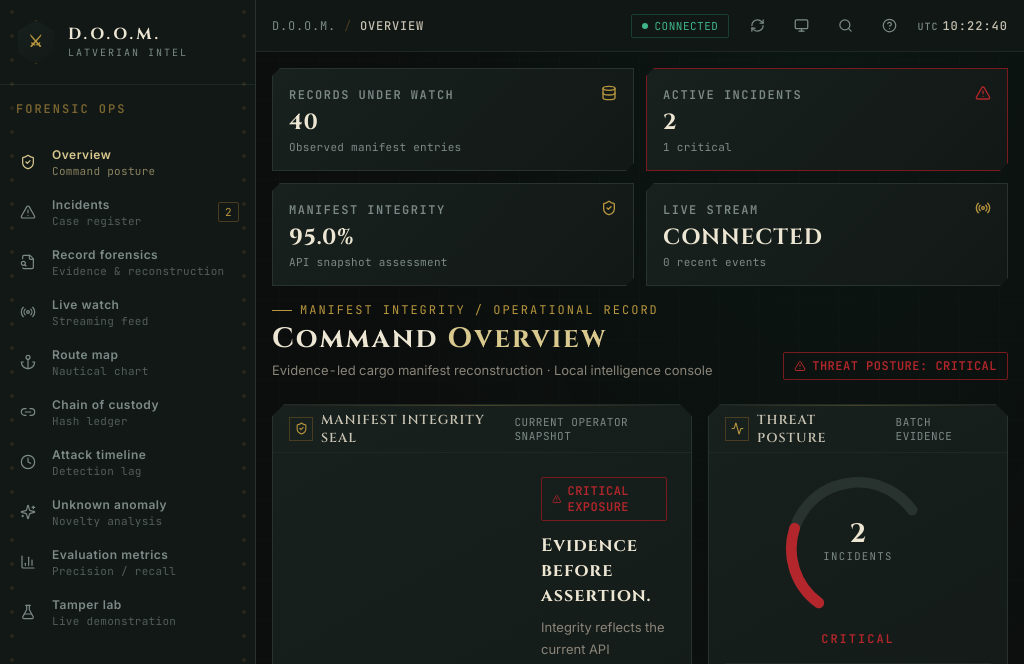
D.O.O.M. operations console › filters and sorts incidents by API-provided fields
The image size is (1024, 664).
Click the button "Incidents Case register 2": {"x": 128, "y": 212} top-left (8, 188), bottom-right (247, 236)
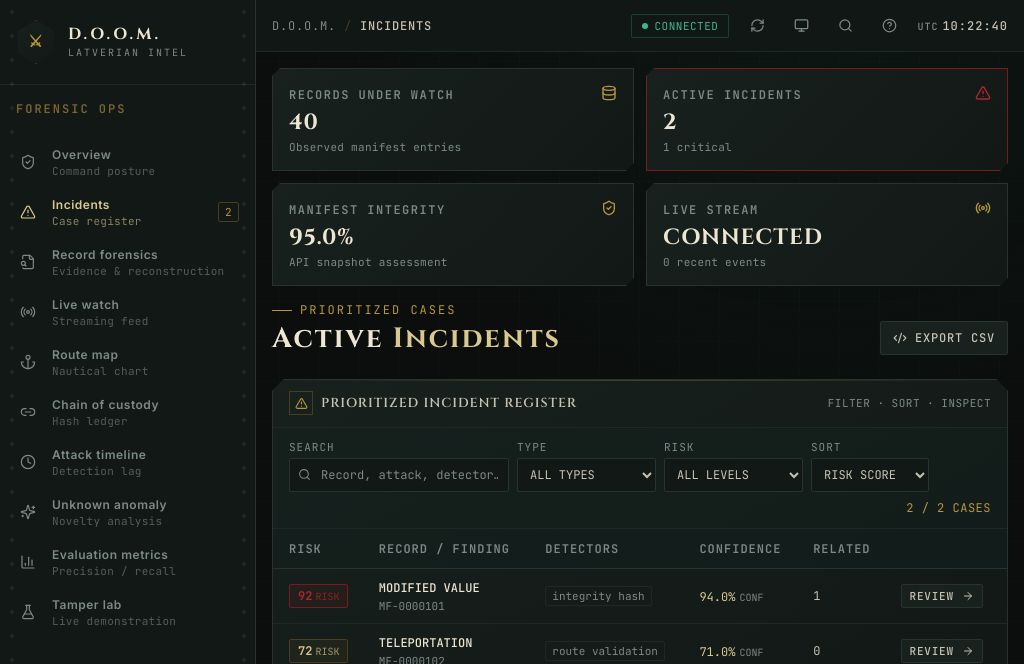
In the field named "Search incidents": {"x": 410, "y": 475} top-left (319, 466), bottom-right (500, 484), type "teleportation"
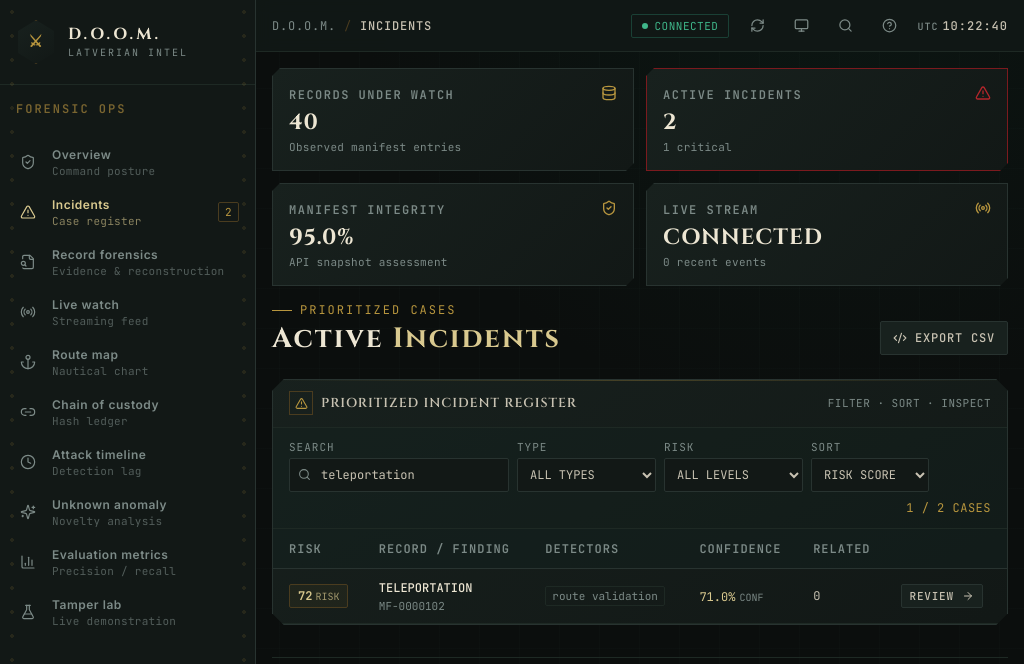
Expected: the text "TELEPORTATION" is shown, top-left (379, 580), bottom-right (472, 596)
Result: the text "MODIFIED VALUE" is gone
Clear the field named "Search incidents": {"x": 410, "y": 475} top-left (319, 466), bottom-right (500, 484)
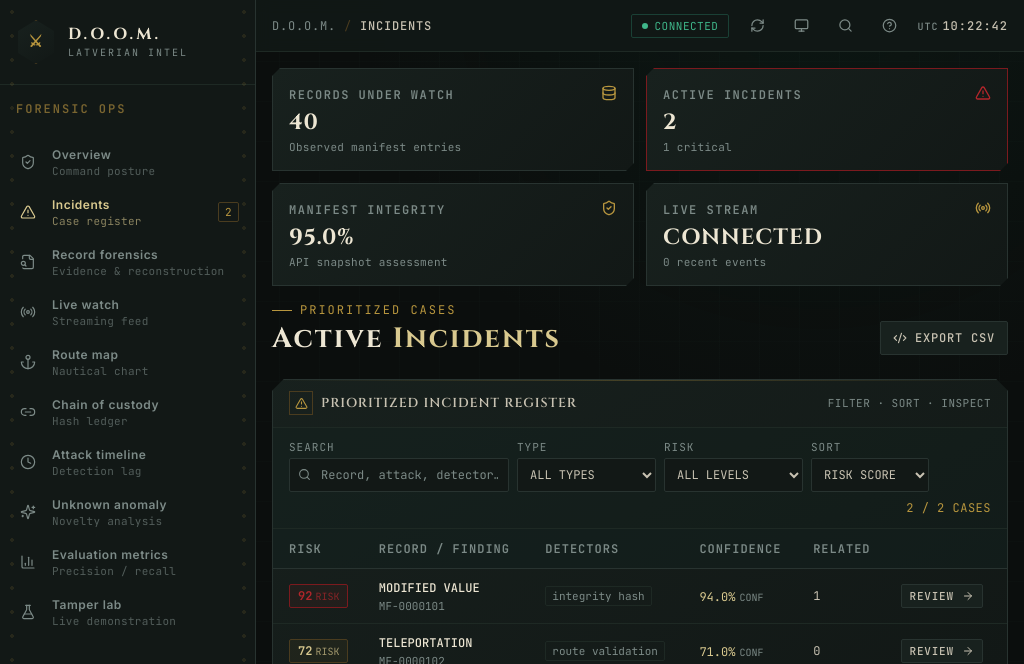
Select "CONFIDENCE" in the dropdown named "Sort incidents": {"x": 870, "y": 475} top-left (811, 458), bottom-right (929, 492)
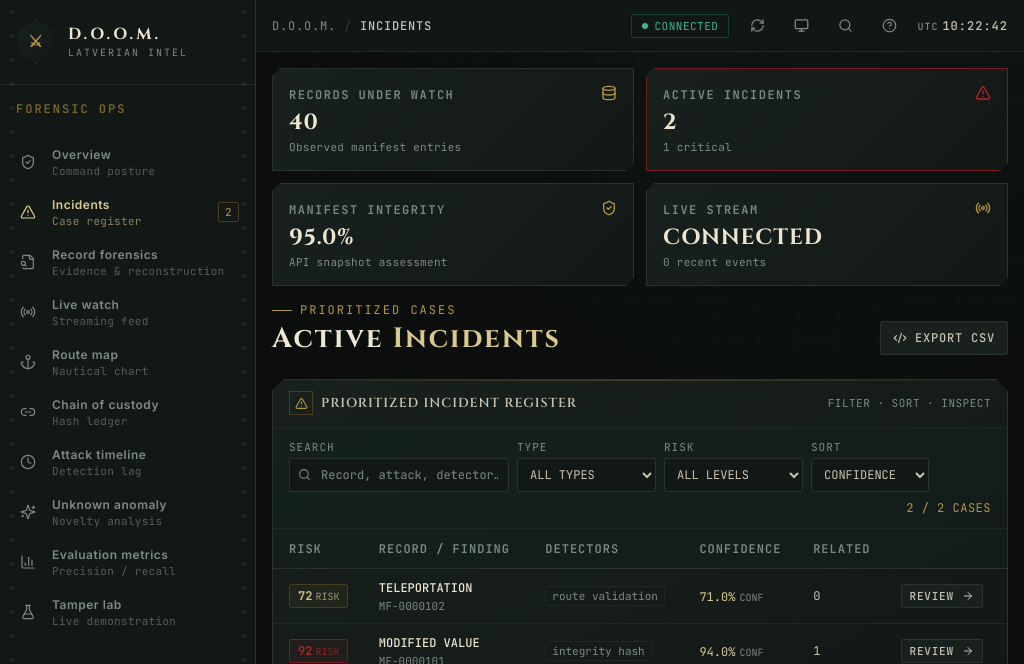
Result: the 2nd row shows "MF-0000102" at top-left (379, 599), bottom-right (445, 613)
Select "CRITICAL (≥90)" in the dropdown named "Filter by severity": {"x": 734, "y": 475} top-left (664, 458), bottom-right (803, 492)
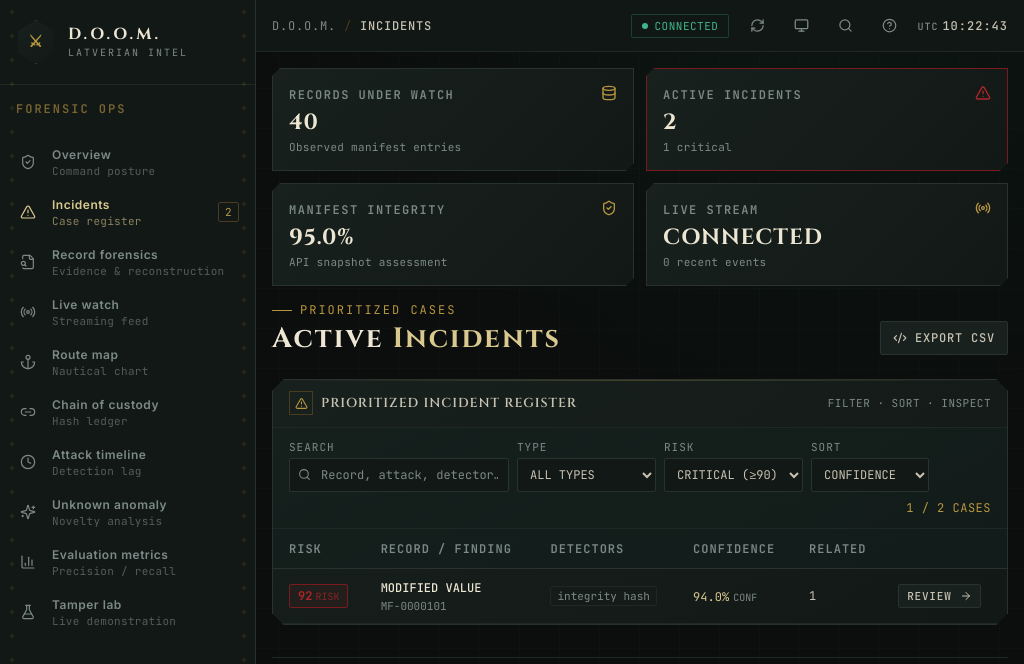
Result: the text "MF-0000101" is shown at top-left (381, 599), bottom-right (447, 613)
Result: the text "MF-0000102" is gone
